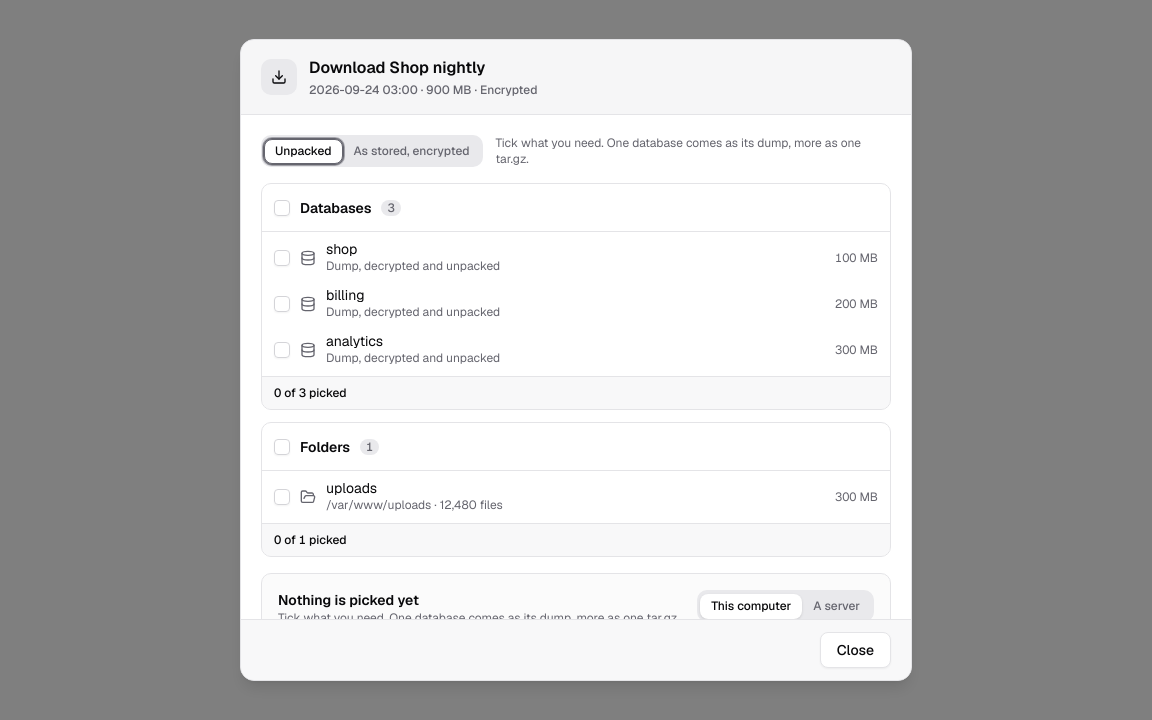
Test: Download dialog › writes the link into the command and says when a server fetched it
Click the checkbox named "billing" next to "billing" at (282,304), box [274, 296, 290, 312]
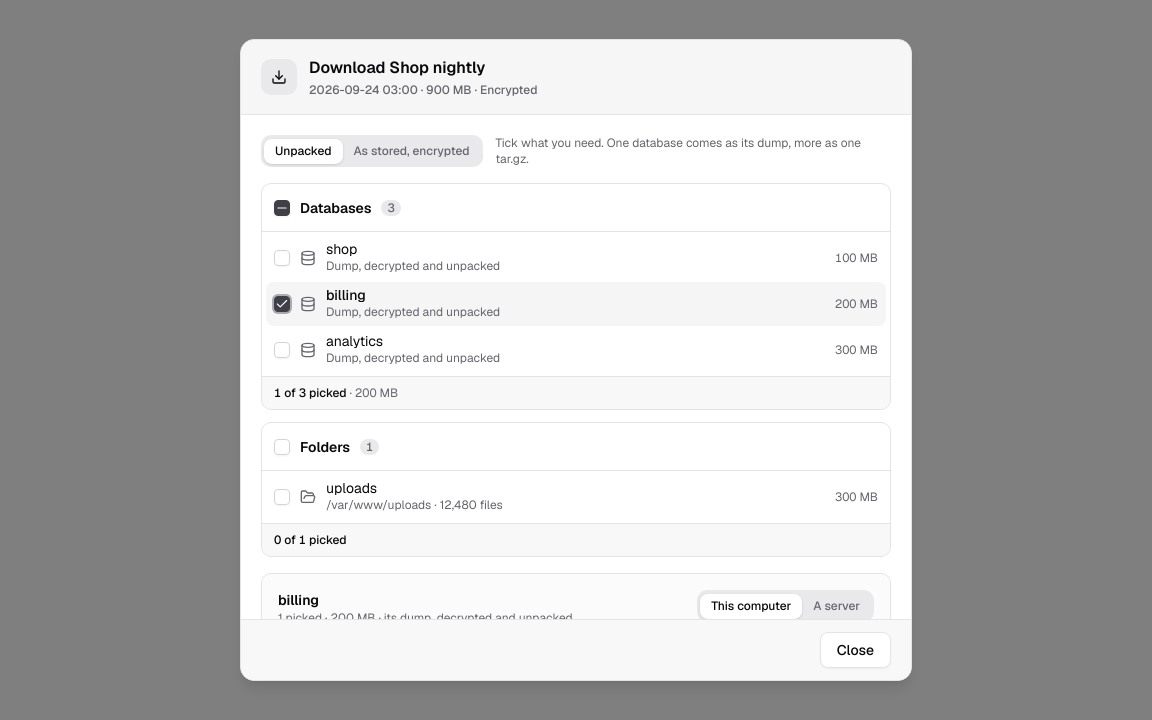
Click the tab "A server" at (837,606), box [802, 594, 871, 618]
(page scrolled)
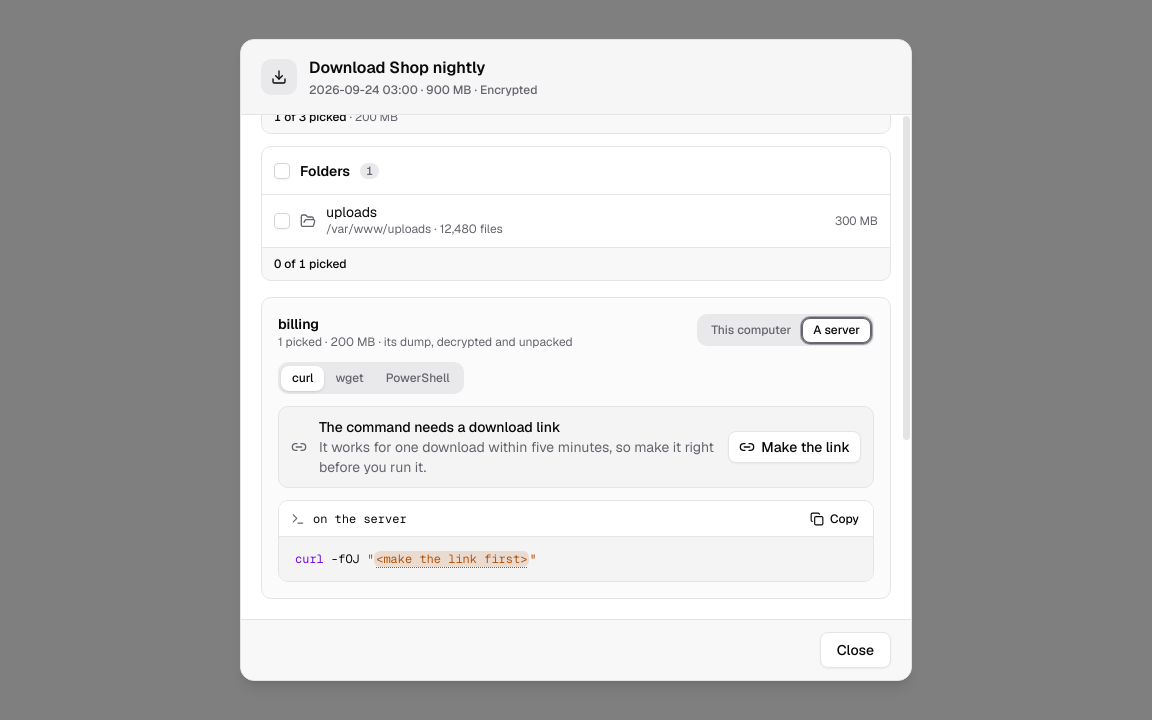
Click the button "Make the link" at (795,447), box [728, 431, 861, 463]
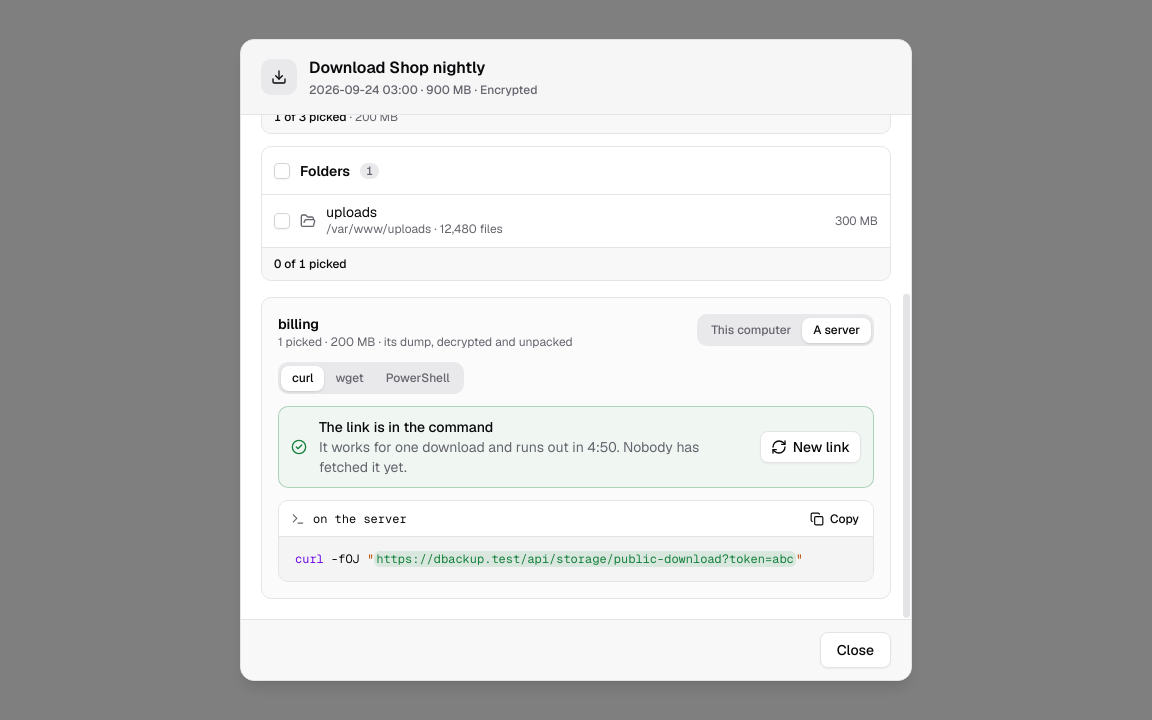
Expected: the text "The link is in the command" is shown, [319, 418, 493, 436]
Click the tab "PowerShell" at (418,378), box [375, 366, 461, 390]
Wait 3100 ms
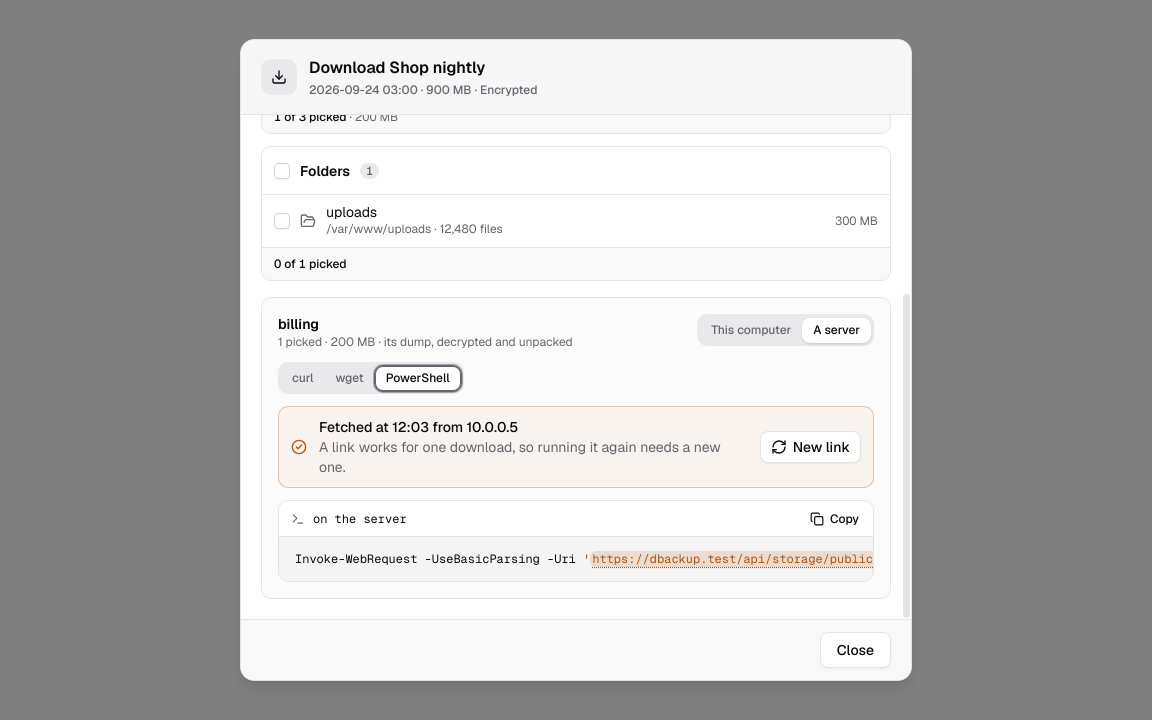
Expected: the button "New link" is enabled, [760, 431, 861, 463]
Expected: the text "Fetched at 12:03 from 10.0.0.5" is shown, [319, 418, 518, 436]
